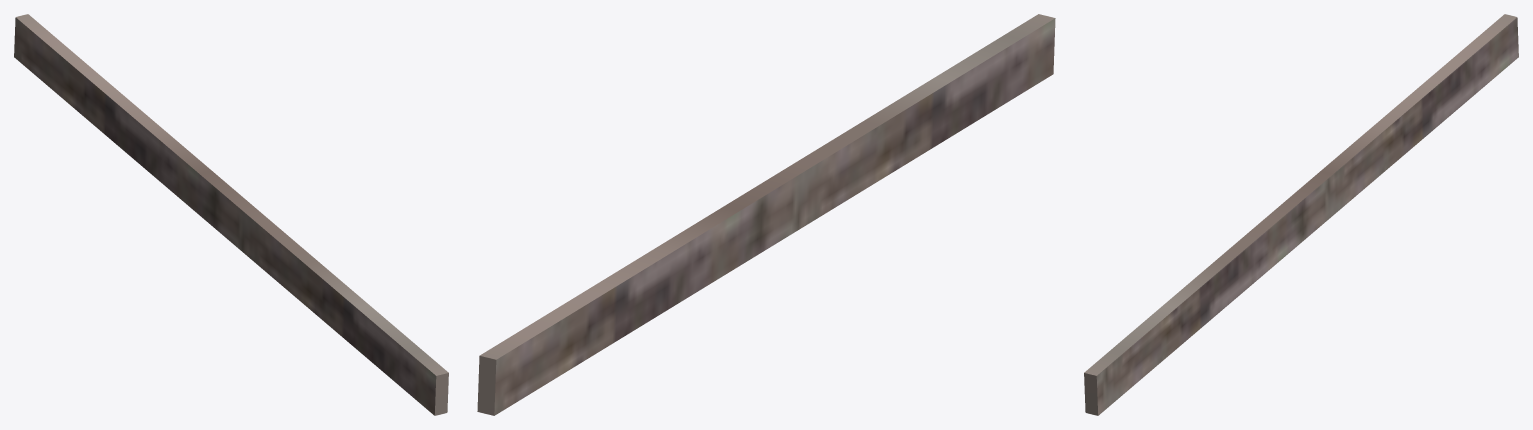
The model's file is board.glb.
3 views of the same model, side by side, from view 1: azimuth 30°, elevation 25°; view 2: azimuth 150°, elevation 25°; view 3: azimuth 330°, elevation 25° (orthographic). The views are drawn at different scales.
Visible parts, largest first — view 1: Cube_002; view 2: Cube_002; view 3: Cube_002.
Part boxes in pixels (x1,y1,x2,y2): Cube_002: (14, 14, 448, 415); Cube_002: (477, 14, 1055, 415); Cube_002: (1084, 14, 1518, 415).
Bounding box in the file's own units: 0.0409 × 0.2835 × 2.36.
1 material, 1 textured.
